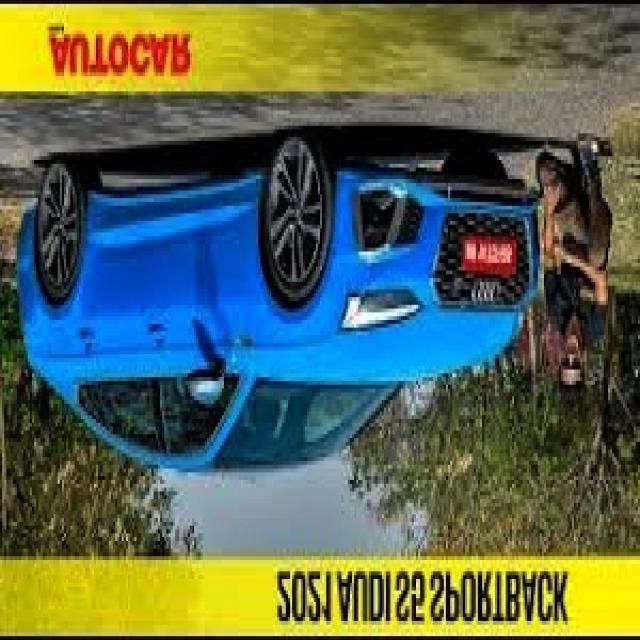blue: (17, 148, 540, 479)
